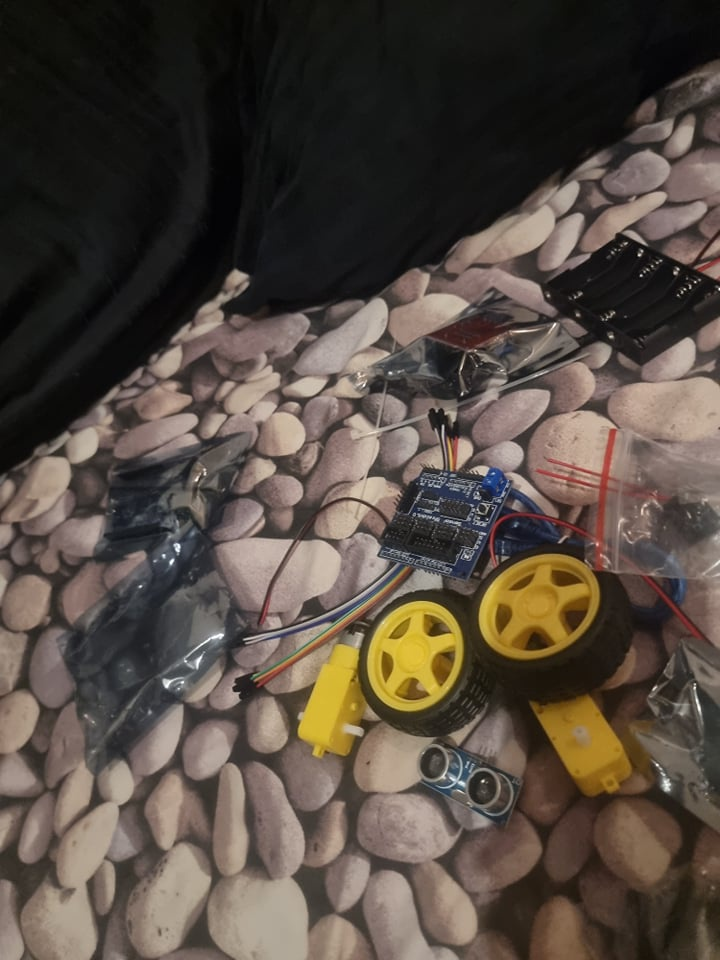5V EXPANSION: (381, 465, 513, 575)
SENSOR: (406, 738, 523, 827)
